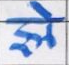o_matra: (38, 3, 56, 45)
